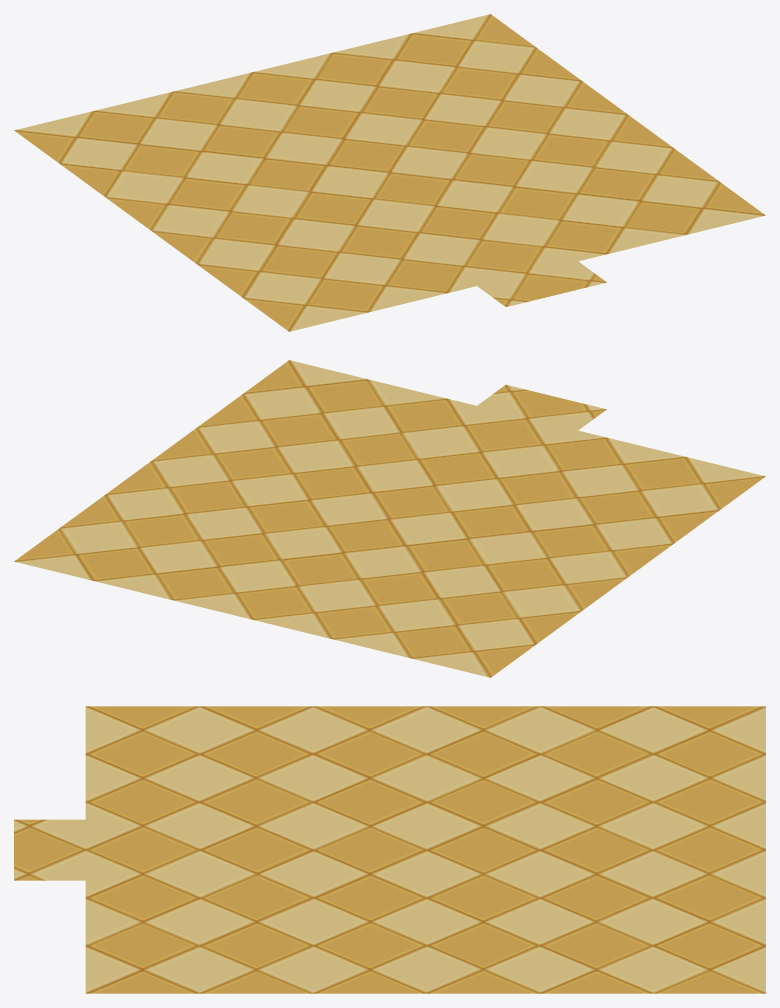
File: Floor04_c02.FBX
3 renders of one model, top to bottom at view 1: azimuth 30°, elevation 25°; view 2: azimuth 150°, elevation 25°; view 3: azimuth 270°, elevation 25°, orthographic. The views are drawn at different scales.
Visible parts, largest first — view 1: Floor04_c02; view 2: Floor04_c02; view 3: Floor04_c02.
Boxes of the visible parts, <box> form: Floor04_c02: <box>14,14,765,331</box>; Floor04_c02: <box>14,360,765,677</box>; Floor04_c02: <box>14,706,765,993</box>.
Bounding box in the file's own units: 900 × 0.000446 × 995.
1 material, 1 textured.
